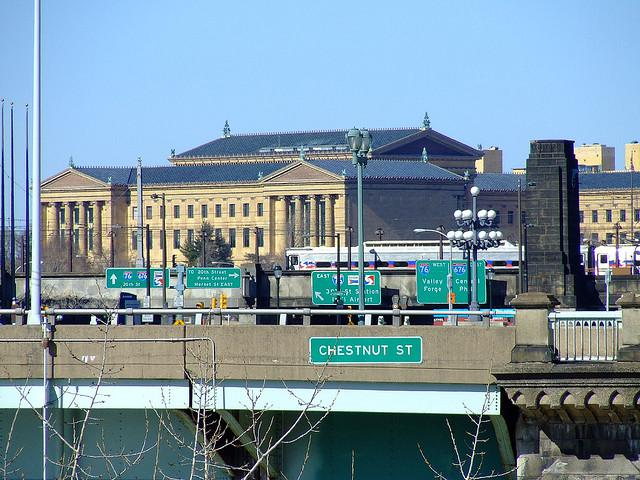Train: (286, 239, 443, 271)
